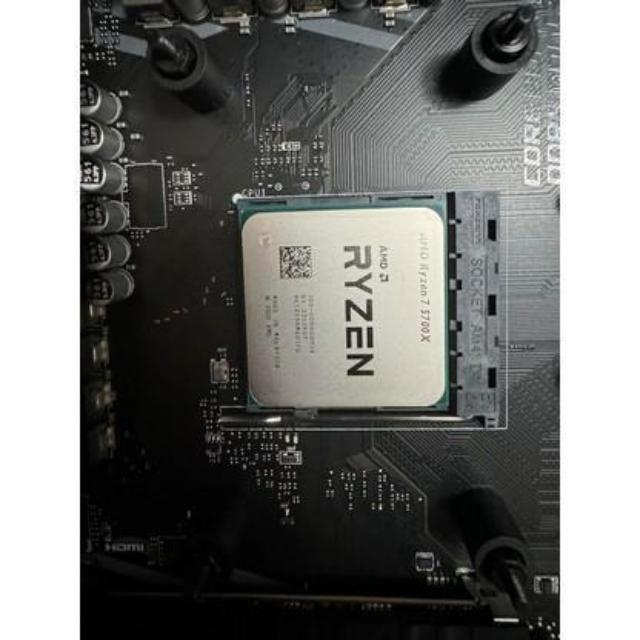CPU: (237, 212, 451, 408)
